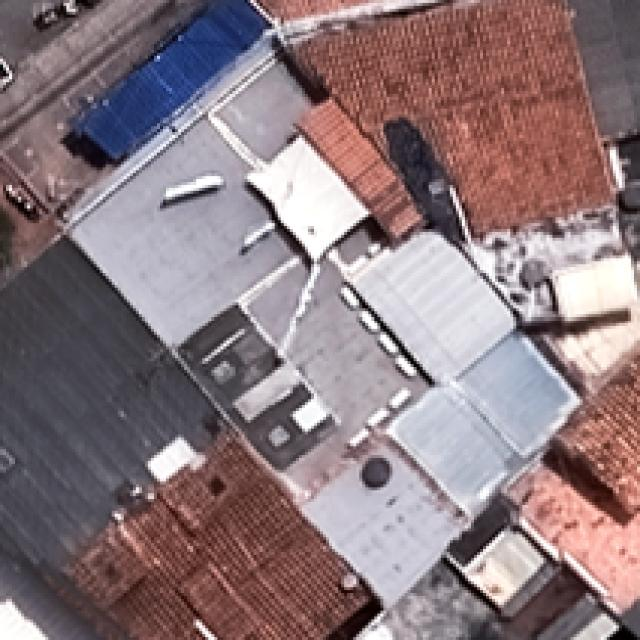Batiment: (71, 41, 580, 607), (299, 3, 613, 237), (60, 431, 378, 640), (509, 356, 640, 614), (297, 99, 423, 242)
